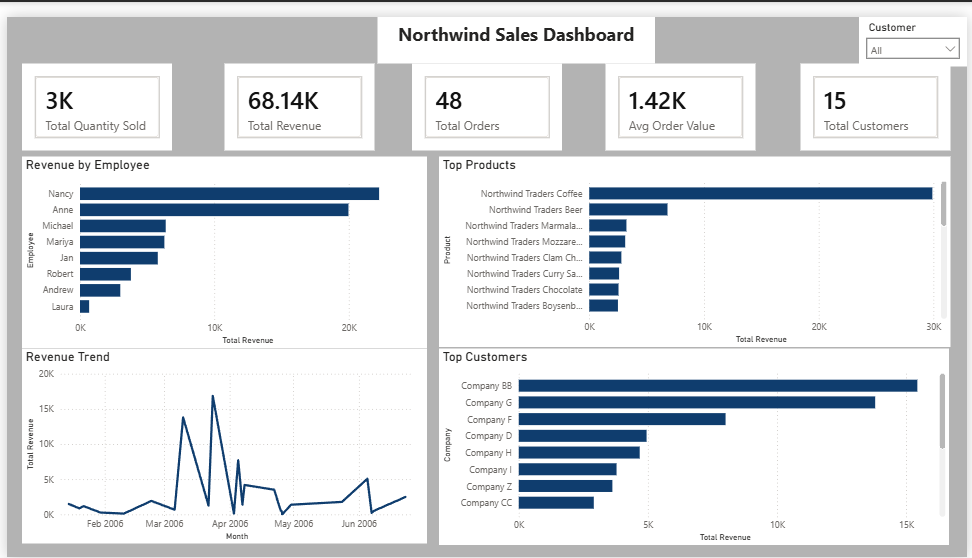

Layout of this report page (visuals, bound fields, positions):
{"tool":"powerbi","page":{"name":"Page 1","canvas":[1280,720],"ordinal":0},"visuals":[{"type":"cardVisual","fields":{"Data":["orders.Total Orders"]},"box":[274,62,200,116],"z":0},{"type":"clusteredBarChart","title":"Revenue by Employee","fields":{"Category":["employees.first_name"],"Y":["order_details.Total Revenue"]},"box":[20,185,540,255],"z":1000},{"type":"cardVisual","fields":{"Data":["customers.Total Customers"]},"box":[1058,62,200,116],"z":2000},{"type":"clusteredBarChart","title":"Top Products","fields":{"Category":["products.product_name"],"Y":["order_details.Total Revenue"]},"box":[576,186,682,254],"z":3000},{"type":"cardVisual","fields":{"Data":["orders.Avg Order Value"]},"box":[540,62,200,116],"z":4000},{"type":"clusteredBarChart","title":"Top Customers","fields":{"Category":["customers.company"],"Y":["order_details.Total Revenue"]},"box":[576,442,680,262],"z":5000},{"type":"cardVisual","fields":{"Data":["order_details.Total Revenue"]},"box":[20,62,200,116],"z":6000},{"type":"lineChart","title":"Revenue Trend","fields":{"Category":["orders.order_date"],"Y":["order_details.Total Revenue"]},"box":[20,442,540,260],"z":7000},{"type":"slicer","fields":{"Values":["customers.company"]},"box":[1136,0,144,66],"z":8000},{"type":"textbox","box":[494,0,370,62],"z":9000},{"type":"cardVisual","fields":{"Data":["customers.Total Quantity Sold"]},"box":[816,62,200,116],"z":10000}]}

Visuals, with their boxes in screenshot pixels (x1, y1, x2, y2), scaled from the page's 1280x720 canvas onto the 972x558 screenshot:
cardVisual - orders.Total Orders: {"left": 208, "top": 48, "right": 360, "bottom": 138}
"Revenue by Employee" clusteredBarChart: {"left": 15, "top": 143, "right": 425, "bottom": 341}
cardVisual - customers.Total Customers: {"left": 803, "top": 48, "right": 955, "bottom": 138}
"Top Products" clusteredBarChart: {"left": 437, "top": 144, "right": 955, "bottom": 341}
cardVisual - orders.Avg Order Value: {"left": 410, "top": 48, "right": 562, "bottom": 138}
"Top Customers" clusteredBarChart: {"left": 437, "top": 343, "right": 954, "bottom": 546}
cardVisual - order_details.Total Revenue: {"left": 15, "top": 48, "right": 167, "bottom": 138}
"Revenue Trend" lineChart: {"left": 15, "top": 343, "right": 425, "bottom": 544}
slicer - customers.company: {"left": 863, "top": 0, "right": 971, "bottom": 51}
textbox: {"left": 375, "top": 0, "right": 656, "bottom": 48}
cardVisual - customers.Total Quantity Sold: {"left": 620, "top": 48, "right": 772, "bottom": 138}
